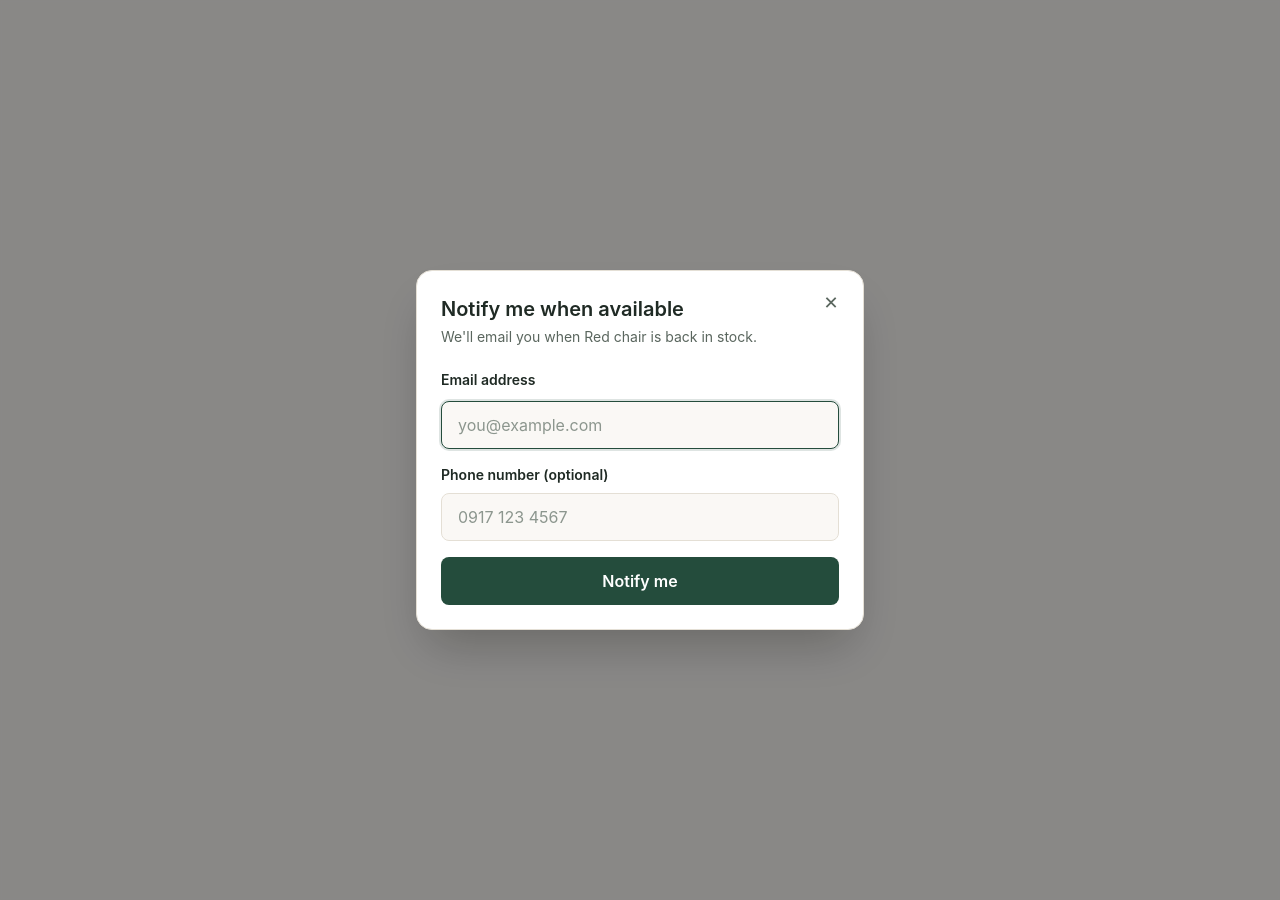
Test: BackInStockDialog › keeps the entered email visible after a server error
Type "shopper@example.com" into the field labelled "Email address". click: (640, 425)
box: [441,401,839,449]
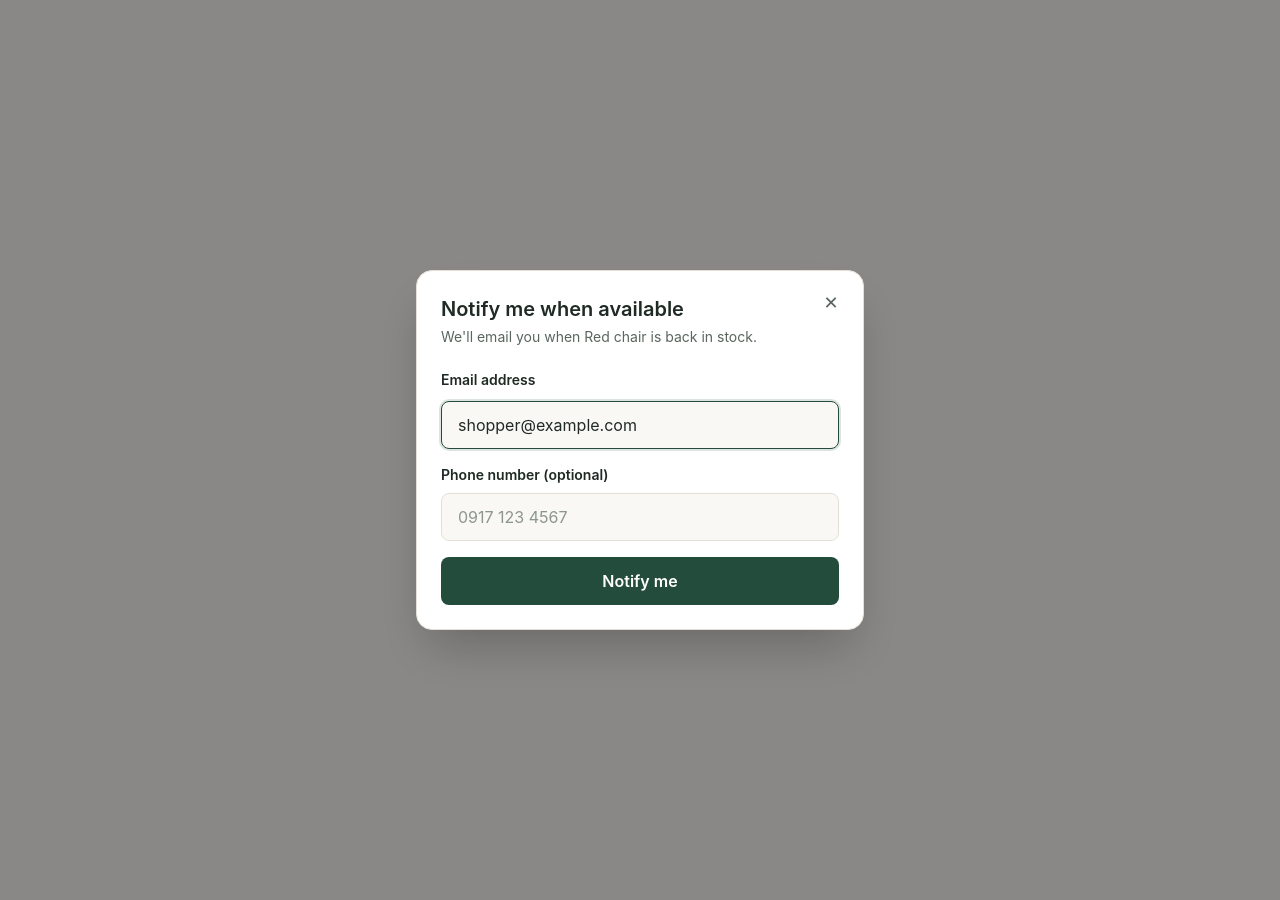
Click the button "Notify me". click: (640, 581)
box: [441,557,839,605]
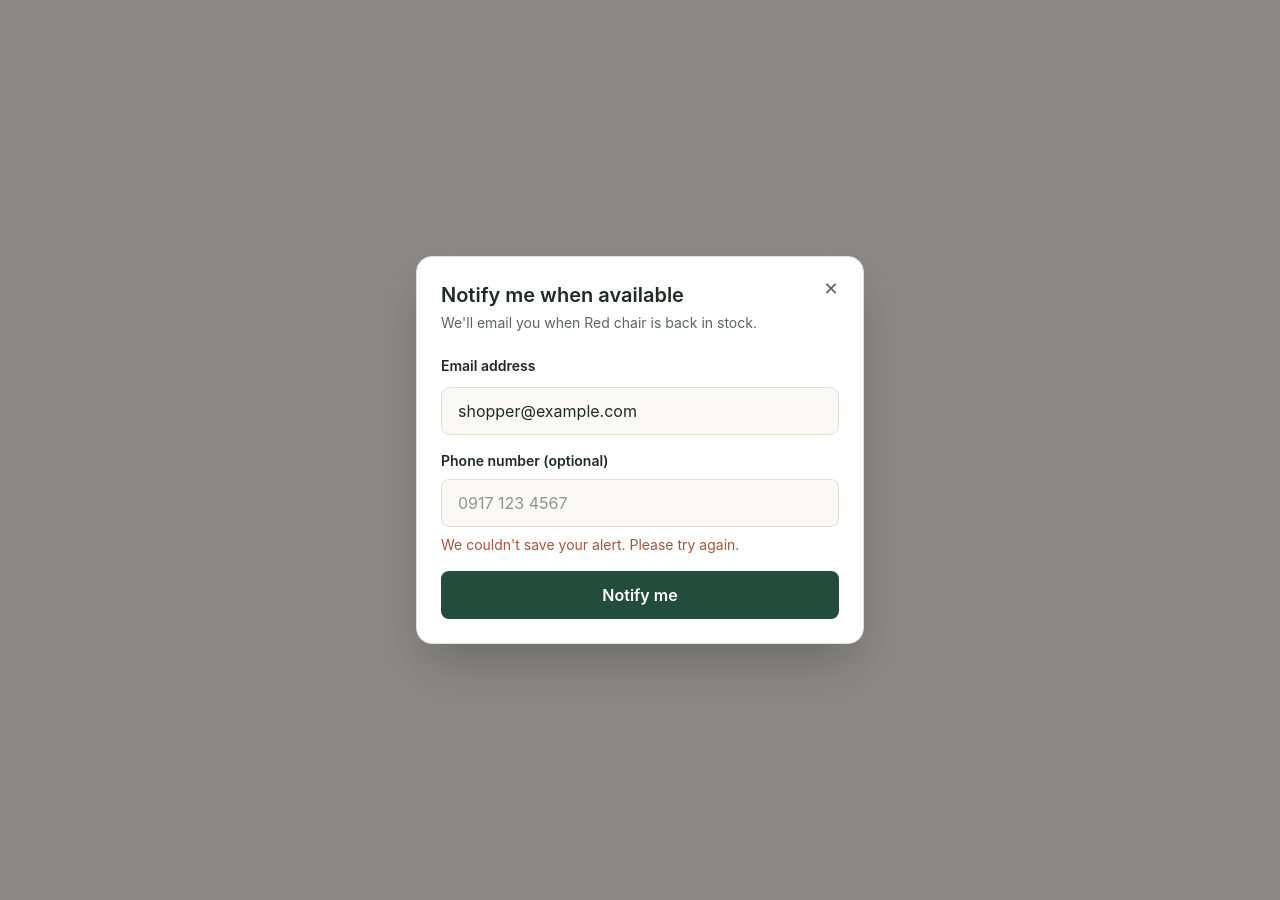
Check: the message reads "We couldn't save your alert. Please try again.", box [441,536,739,553]
